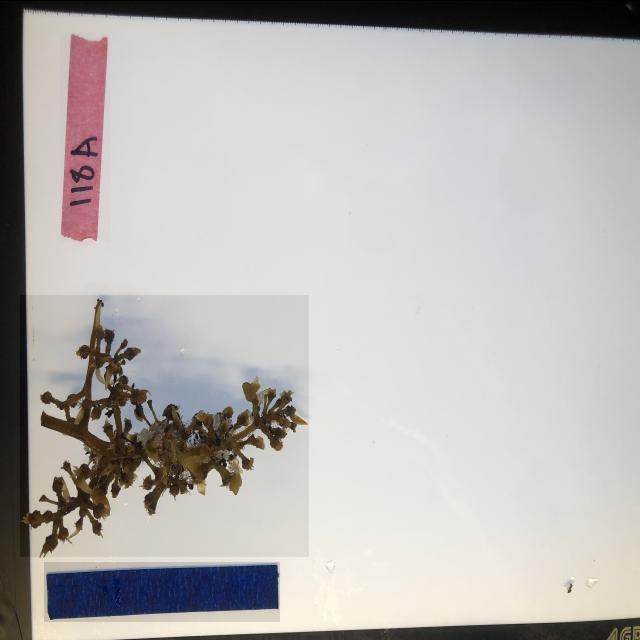index: (60, 32, 110, 241)
measure_label: (44, 561, 280, 621)
rachis_cluster: (20, 294, 309, 556)
